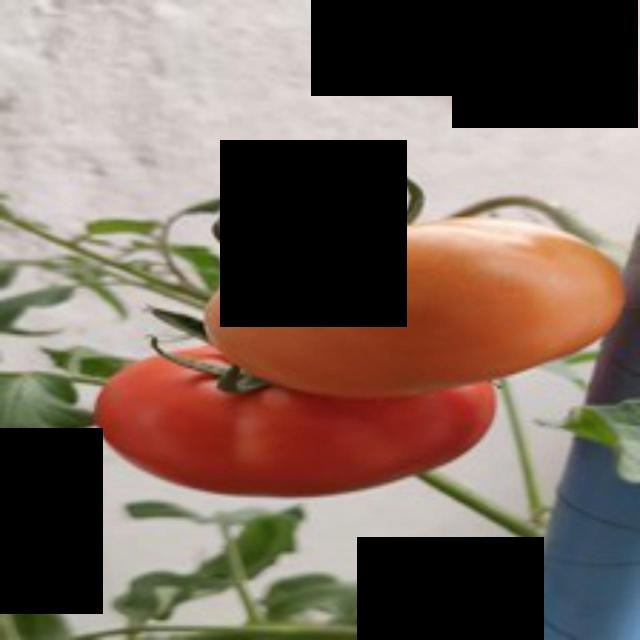tomato: (186, 206, 636, 411), (80, 322, 511, 503)
